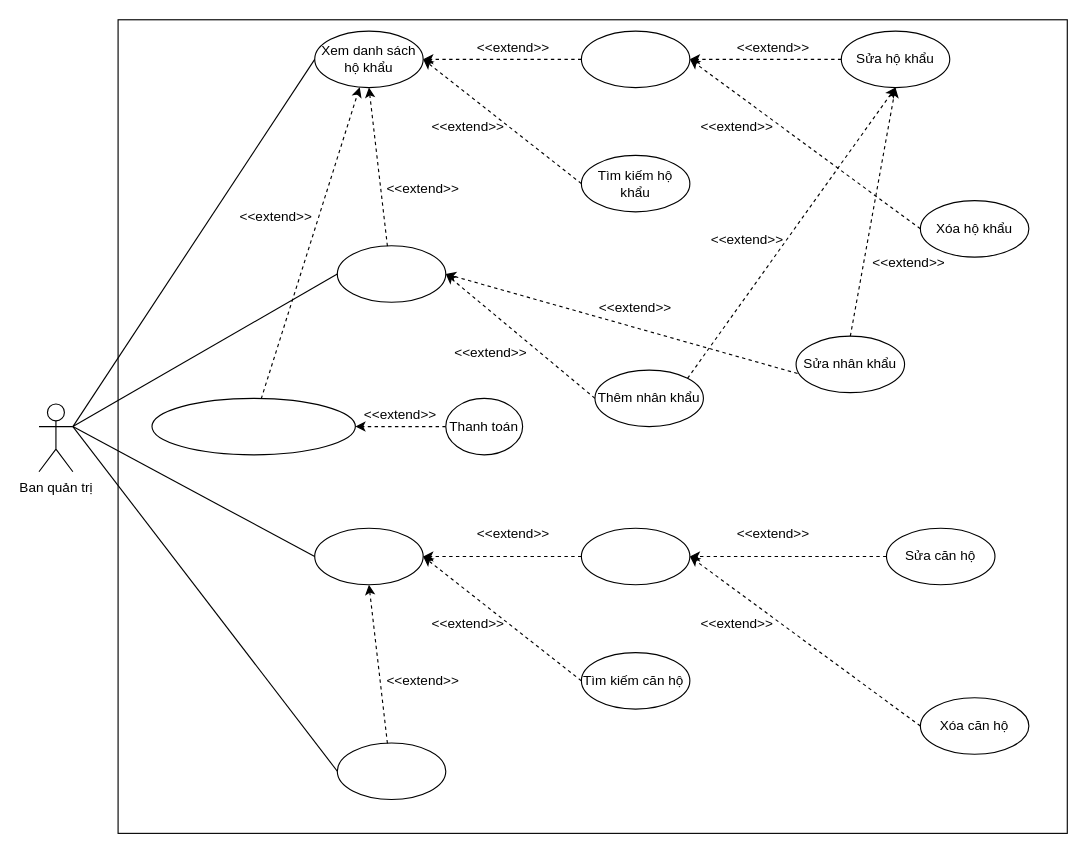
Image size: 1087x853. Some labels were removed from this diagram. The shapes that lost their labels are listed below. From the top down, each one's centre as x and y in pixels, then its label:
pixel 635 59: Xem chi tiết hộ khẩu
pixel 391 273: Thêm hộ khẩu
pixel 253 426: Xem chi tiết khoản thu theo hộ
pixel 368 556: Xem danh sách căn hộ
pixel 635 556: Xem chi tiết căn hộ
pixel 391 770: Thêm căn hộ
